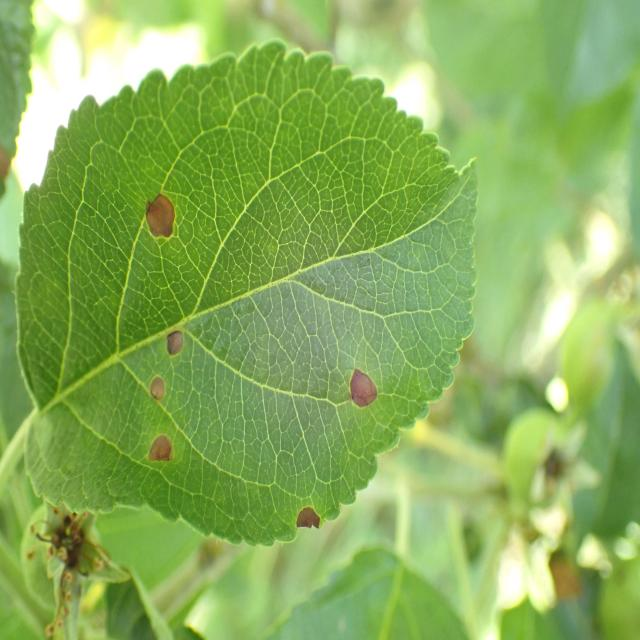Black Rot: (140, 169, 190, 251), (138, 420, 192, 488), (336, 351, 378, 424), (280, 496, 335, 548), (157, 313, 190, 368), (144, 368, 176, 410)
